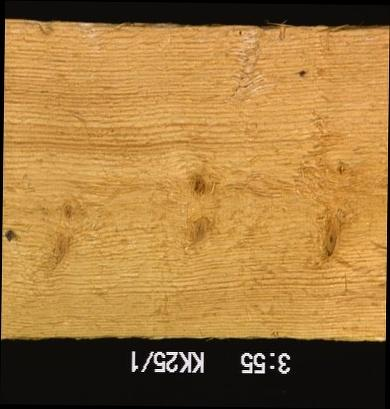small_knot: (55, 195, 76, 224)
sound_knot: (177, 211, 220, 261), (188, 169, 208, 200)
